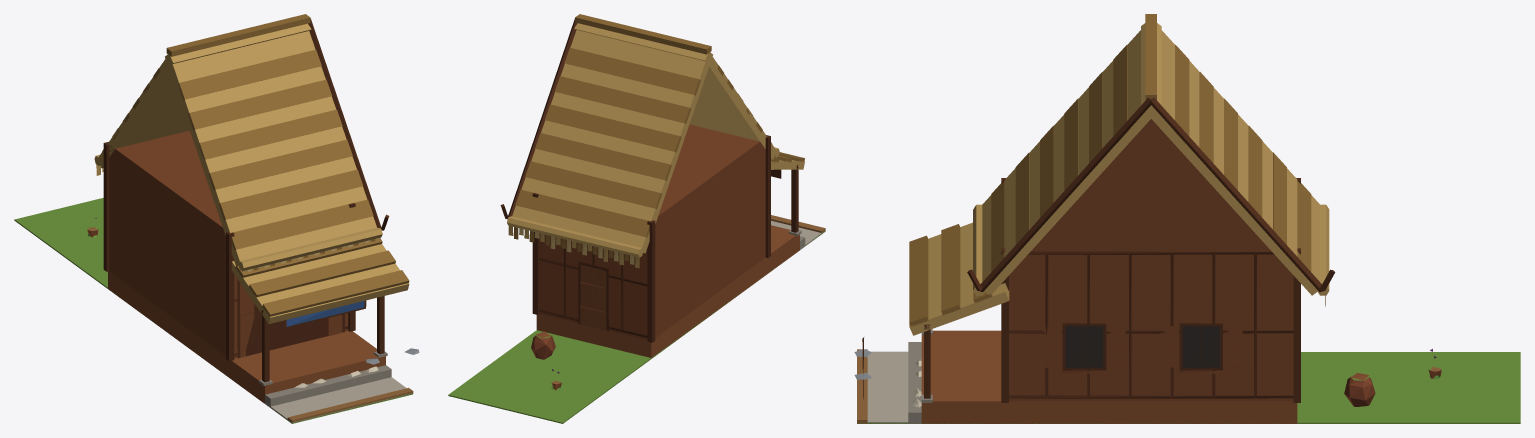
File: bay2_right.glb
3 views of the same model, side by side, from view 1: azimuth 30°, elevation 25°; view 2: azimuth 150°, elevation 25°; view 3: azimuth 270°, elevation 25° (orthographic). The views are drawn at different scales.
Parts seen in each view (by area): view 1: body; view 2: body; view 3: body, windows.
Boxes of the visible parts, <box> form: body: <box>14,14,419,423</box>; body: <box>448,14,825,423</box>; body: <box>854,14,1520,423</box>; windows: <box>1065,326,1219,367</box>.
Bounding box in the file's own units: 4.86 × 9.14 × 15.96.
